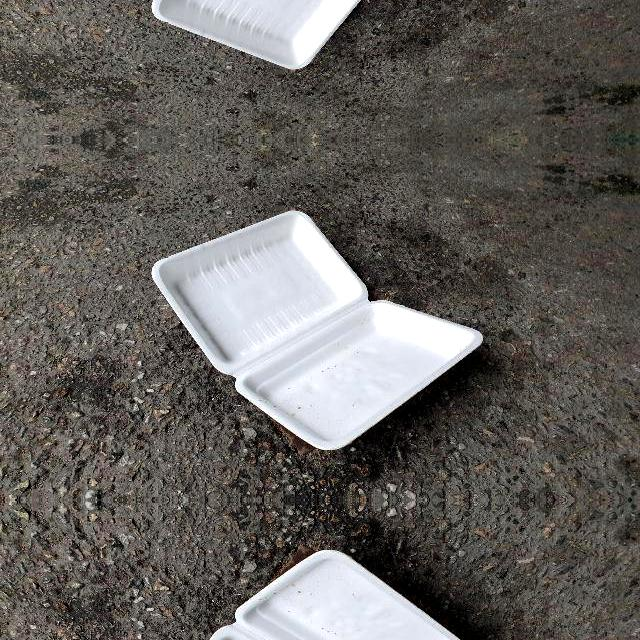Styrofoam: (151, 210, 484, 450), (153, 209, 483, 451), (153, 549, 483, 640), (153, 0, 483, 71), (210, 550, 461, 640), (151, 0, 362, 70)
